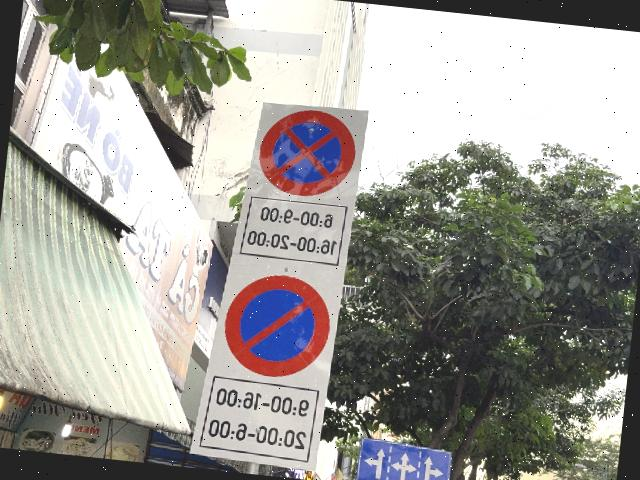cam-do-xe: (220, 270, 335, 382)
cam-dung-va-do-xe: (255, 105, 358, 201)
